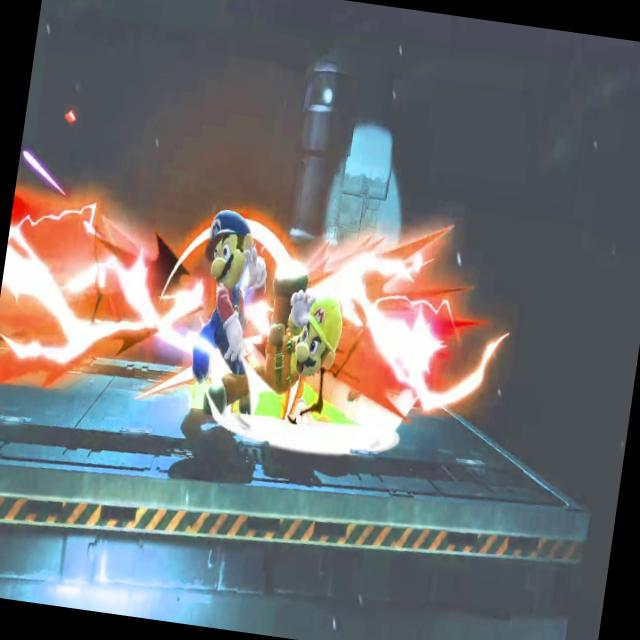Mario: (180, 204, 286, 422)
Mario-DS: (189, 268, 348, 436)
